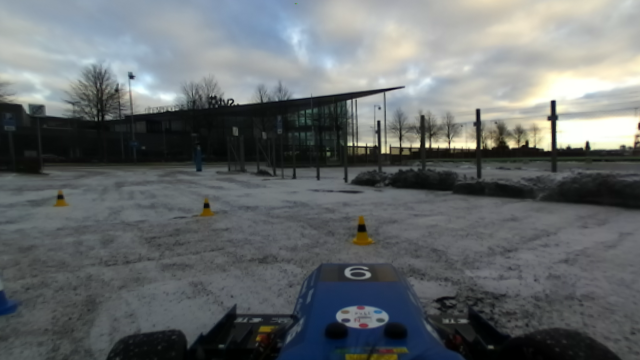yellow: (348, 213, 376, 246), (197, 195, 217, 218)
